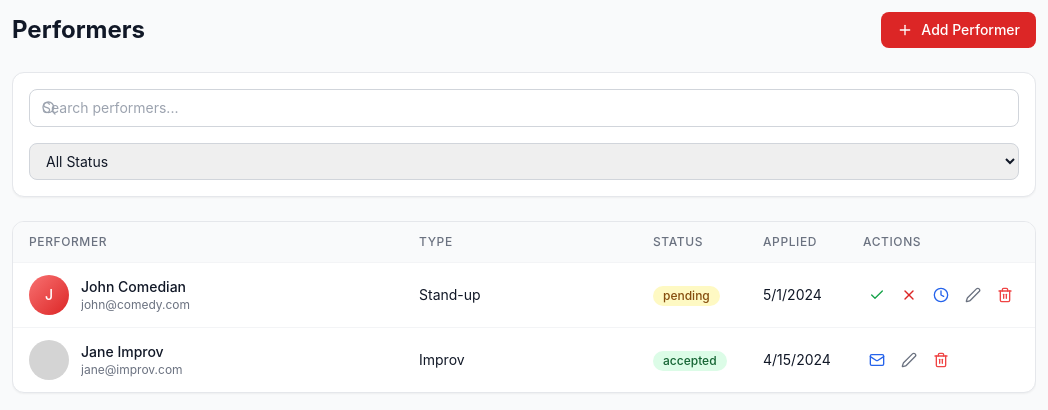
Test case: Performers › search functionality › filters performers by email
Expected: the text "John Comedian" is shown, [81, 277, 190, 297]
In the field with placeholder "Search performers...": {"x": 524, "y": 108} [29, 89, 1019, 127], type "improv.com"
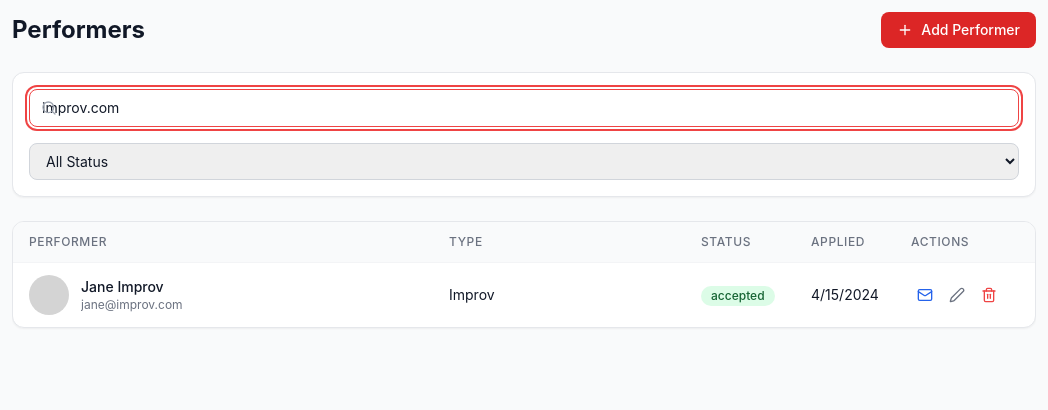
Expected: the text "Jane Improv" is shown, [81, 278, 164, 295]
Expected: the text "John Comedian" is gone
